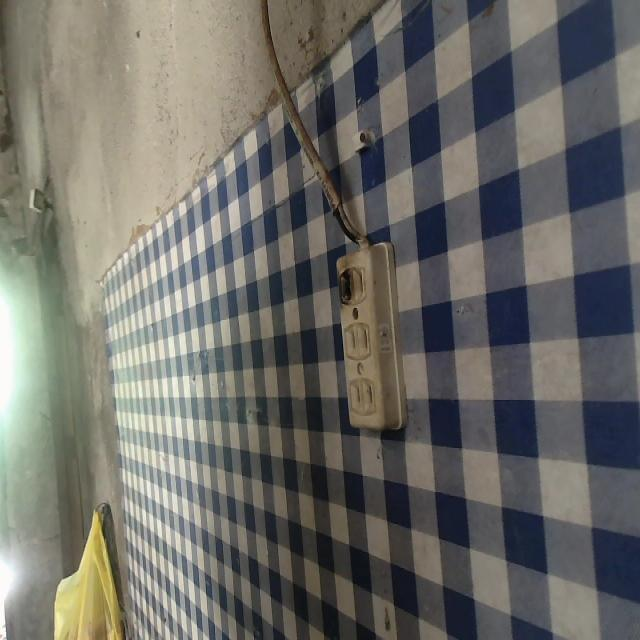-: (337, 266, 353, 306)
